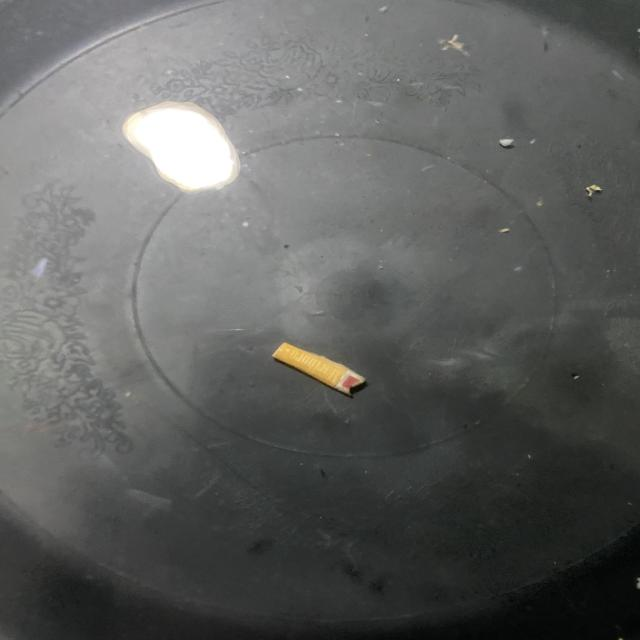Cigarette Filter: (242, 328, 394, 411)
